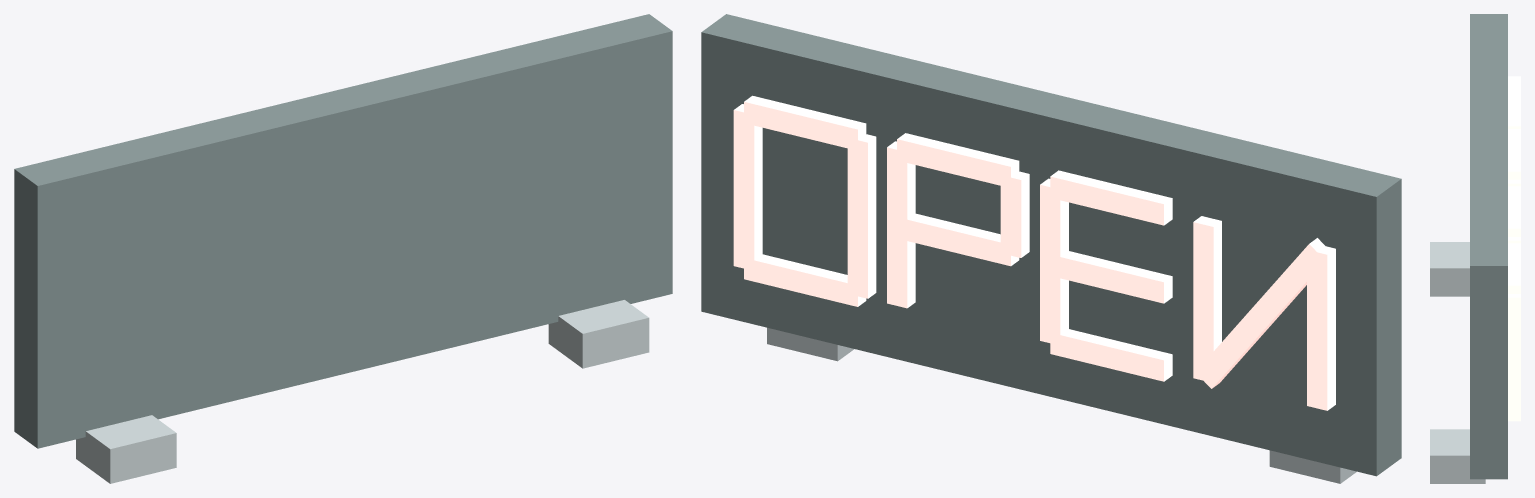
Rendered from diner_open_sign.glb.
3 renders of one model, left to right at view 1: azimuth 30°, elevation 25°; view 2: azimuth 150°, elevation 25°; view 3: azimuth 270°, elevation 25°, orthographic. The views are drawn at different scales.
Parts seen in each view (by area): view 1: open_sign_housing, open_sign_bracket_right, open_sign_bracket_left; view 2: open_sign_housing, open_sign_o_stroke_3, open_sign_n_stroke_1, open_sign_n_stroke_0, open_sign_o_stroke_2, open_sign_e_stroke_0, open_sign_p_stroke_0, open_sign_n_stroke_2, open_sign_e_stroke_1, open_sign_e_stroke_3, open_sign_o_stroke_1, open_sign_p_stroke_1 (+6 smaller); view 3: open_sign_housing, open_sign_bracket_right, open_sign_bracket_left, open_sign_o_stroke_2, open_sign_e_stroke_1, open_sign_o_stroke_1, open_sign_p_stroke_1, open_sign_n_stroke_2, open_sign_n_stroke_0.
Boxes of the visible parts, x1,y1,x2,y2 form: open_sign_housing: (14,14,672,448); open_sign_bracket_right: (548,300,649,368); open_sign_bracket_left: (76,415,176,483); open_sign_housing: (701,14,1401,476); open_sign_o_stroke_3: (847,134,876,298); open_sign_n_stroke_1: (1307,246,1335,410); open_sign_n_stroke_0: (1193,216,1221,382); open_sign_o_stroke_2: (733,104,762,270); open_sign_e_stroke_0: (1040,178,1068,345); open_sign_p_stroke_0: (887,141,915,308); open_sign_n_stroke_2: (1204,238,1325,388); open_sign_e_stroke_1: (1050,170,1172,225); open_sign_e_stroke_3: (1050,329,1172,381); open_sign_o_stroke_1: (744,95,866,148); open_sign_p_stroke_1: (897,133,1019,188); open_sign_housing: (1470,14,1507,479); open_sign_bracket_right: (1430,429,1485,483); open_sign_bracket_left: (1430,242,1469,296); open_sign_o_stroke_2: (1508,294,1520,416); open_sign_e_stroke_1: (1508,129,1520,179); open_sign_o_stroke_1: (1508,243,1520,293); open_sign_p_stroke_1: (1508,186,1520,236); open_sign_n_stroke_2: (1508,78,1520,118); open_sign_n_stroke_0: (1508,118,1520,128).
Size of the model in its own units: 0.86 by 0.3775 by 0.131.
